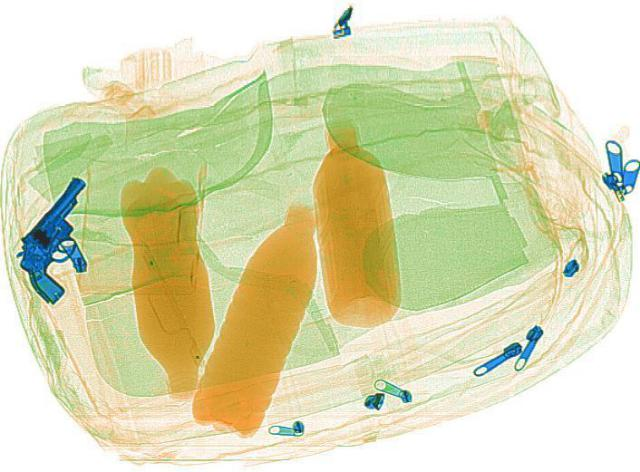Gun: (0, 171, 116, 307)
